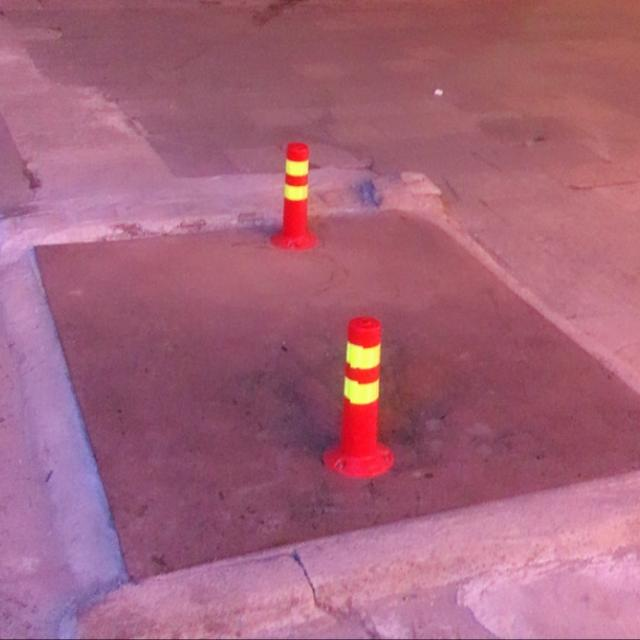warning_column: (324, 315, 394, 479), (273, 140, 315, 248)
